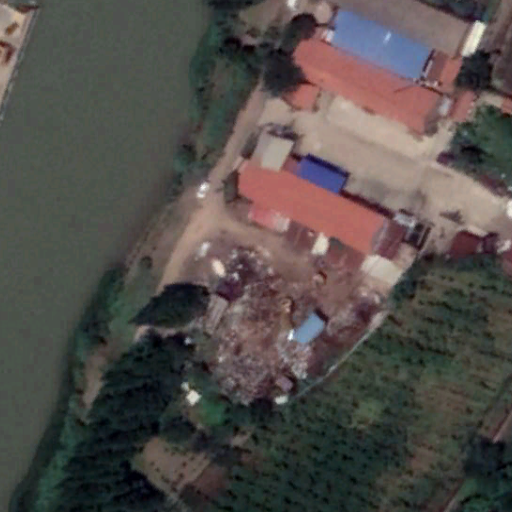msw: (212, 250, 393, 410)
